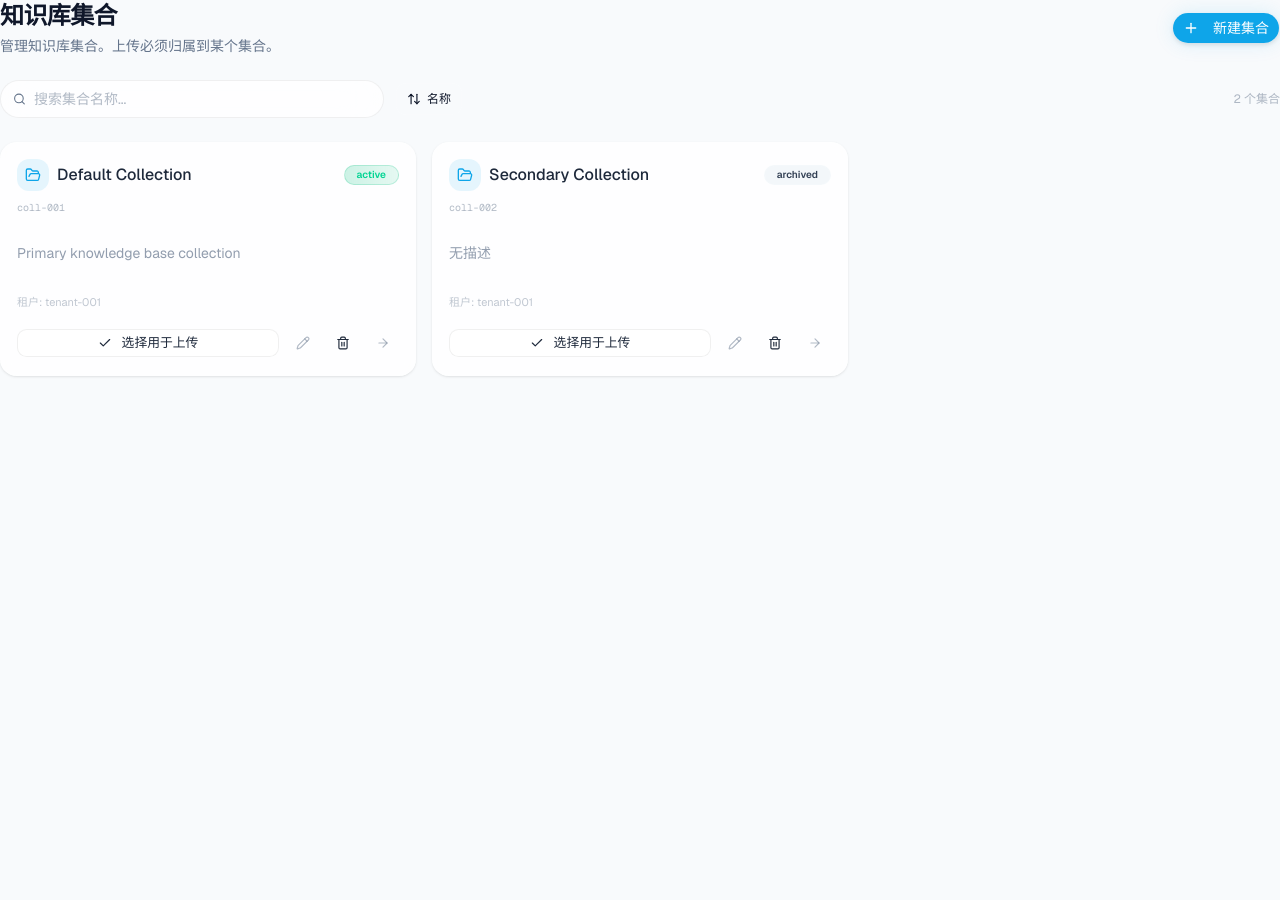
CollectionsPage › shows BackendGap when create returns a backend gap error
This screenshot has width=1280, height=900.
Click the button "新建集合" at (1226, 28), box 1172,12 -> 1279,44
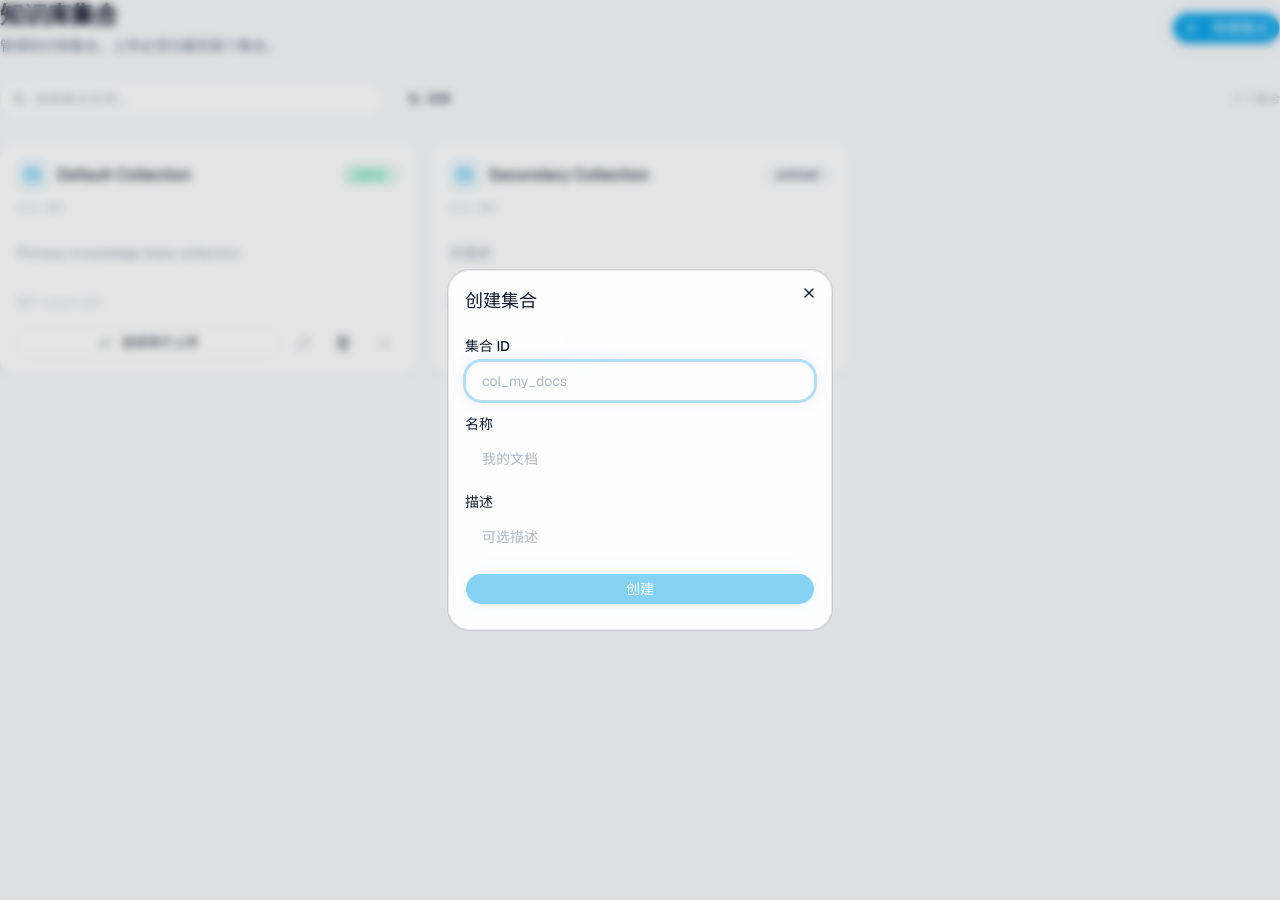
Type "coll-gap" into the field labelled "集合 ID" at (640, 381), box 465,361 -> 815,401
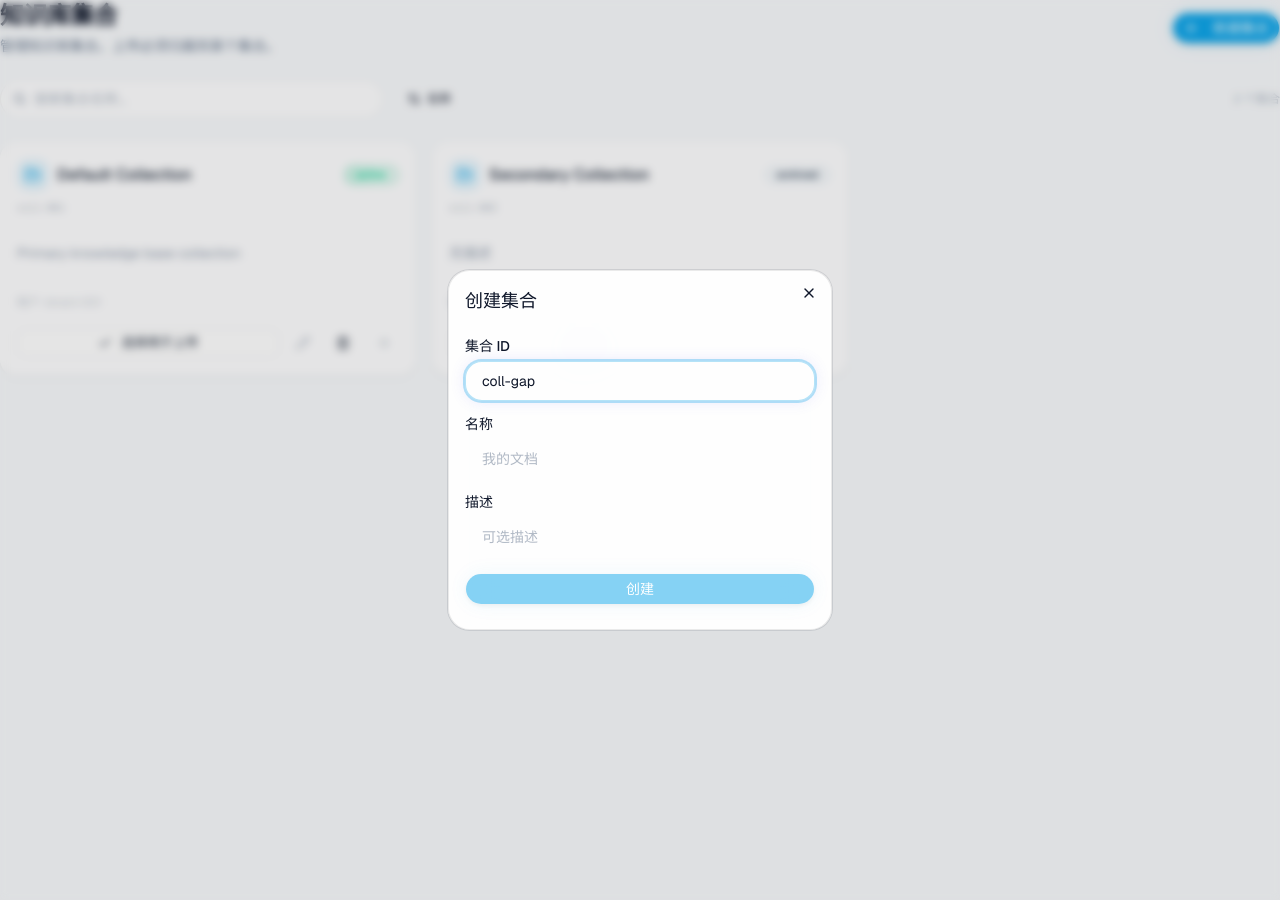
Type "Gap Collection" into the field labelled "名称" at (640, 459), box 465,439 -> 815,479
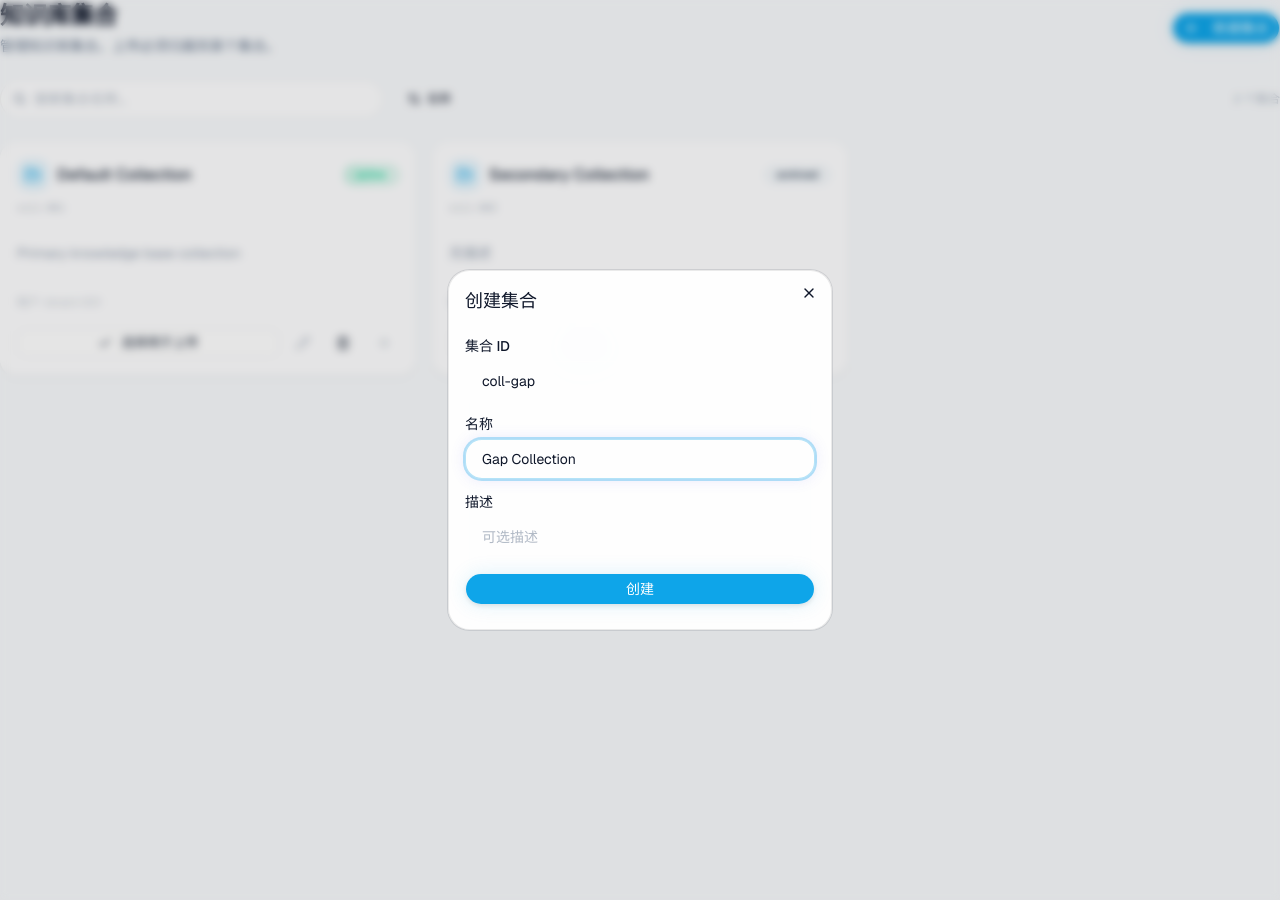
Click the button "创建" at (640, 589), box 465,573 -> 815,605
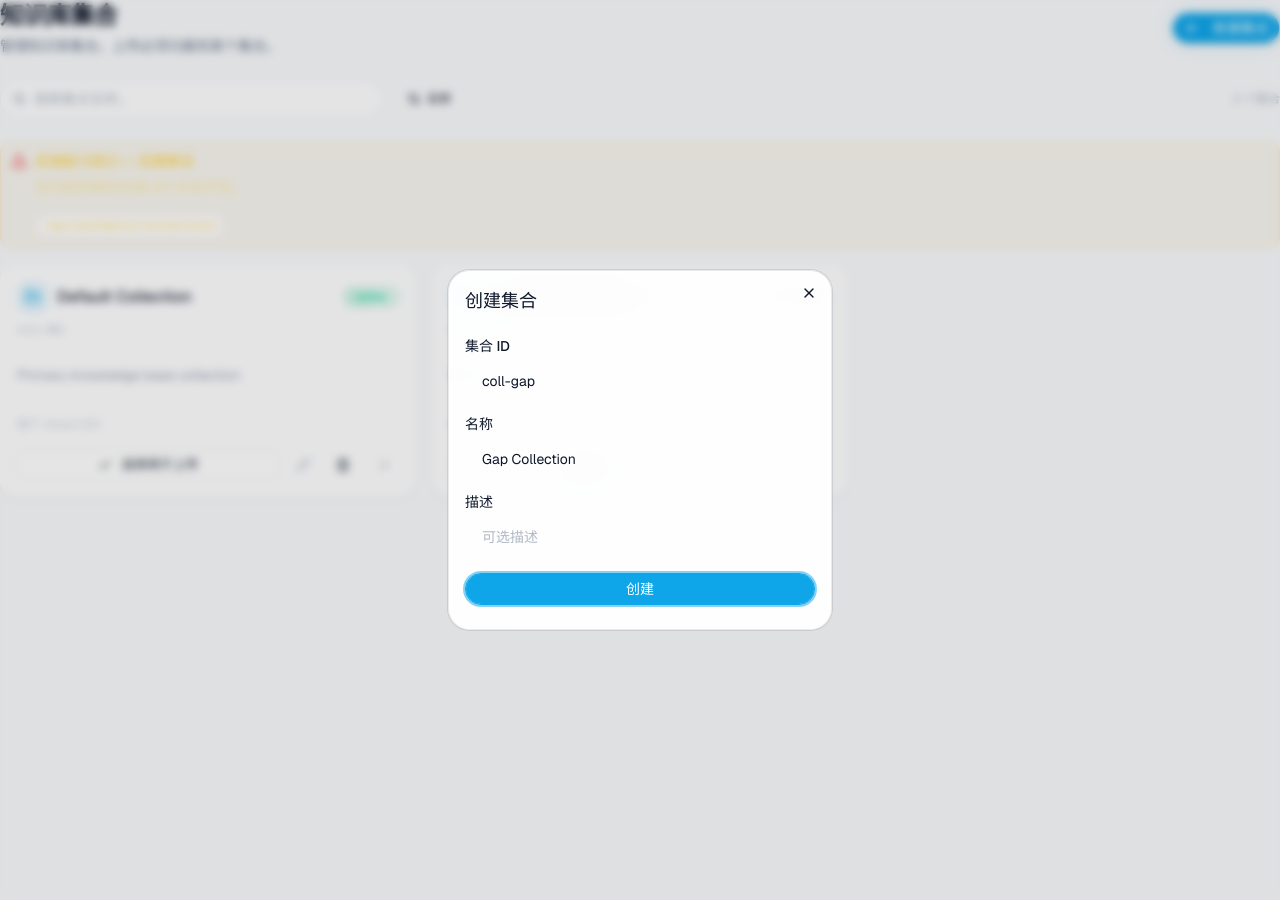
Expected: the text "后端能力缺口 — 创建集合" is shown, 35,152 -> 194,170
Expected: the text "/api/workbench/collections" is shown, 35,213 -> 225,239
